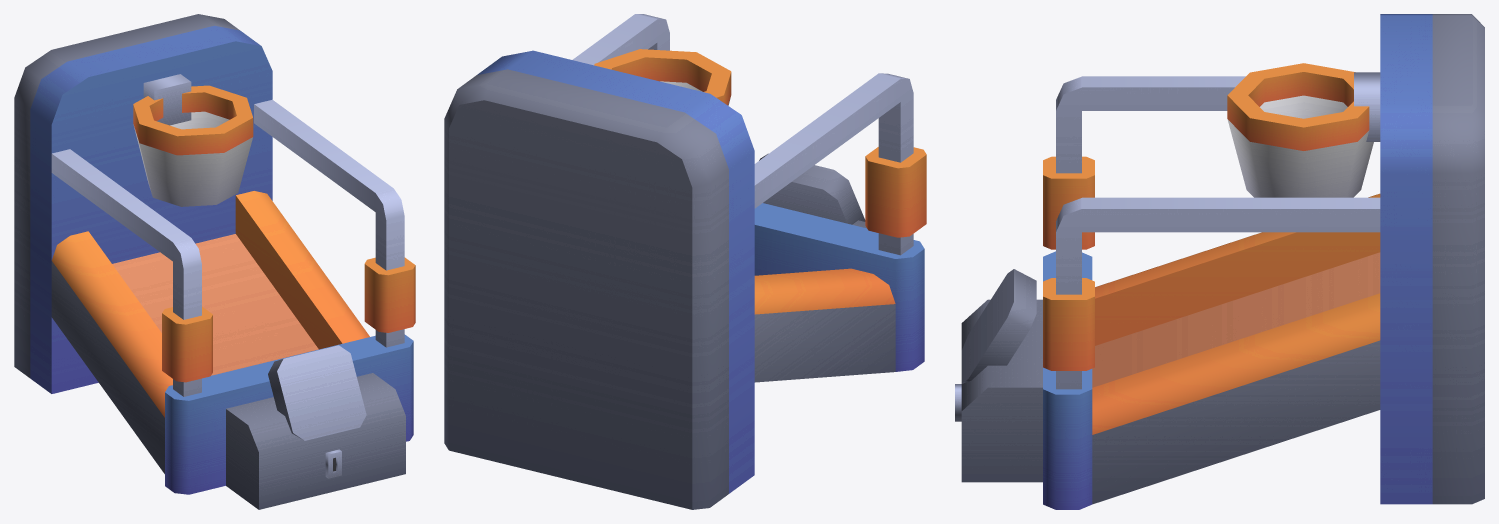
The model's file is basketball-game.003_lev2.glb.
The picture shows the model from 3 angles, left to right: view 1: azimuth 30°, elevation 25°; view 2: azimuth 150°, elevation 25°; view 3: azimuth 270°, elevation 25°; orthographic projection. The views are drawn at different scales.
Parts seen in each view (by area): view 1: basketball-game.003_lev2; view 2: basketball-game.003_lev2; view 3: basketball-game.003_lev2.
Boxes of the visible parts, x1,y1,x2,y2 form: basketball-game.003_lev2: [14, 14, 415, 509]; basketball-game.003_lev2: [444, 14, 926, 509]; basketball-game.003_lev2: [955, 14, 1484, 509].
Size of the model in its own units: 2.34 by 2.88 by 3.65.
1 material, 1 textured.
